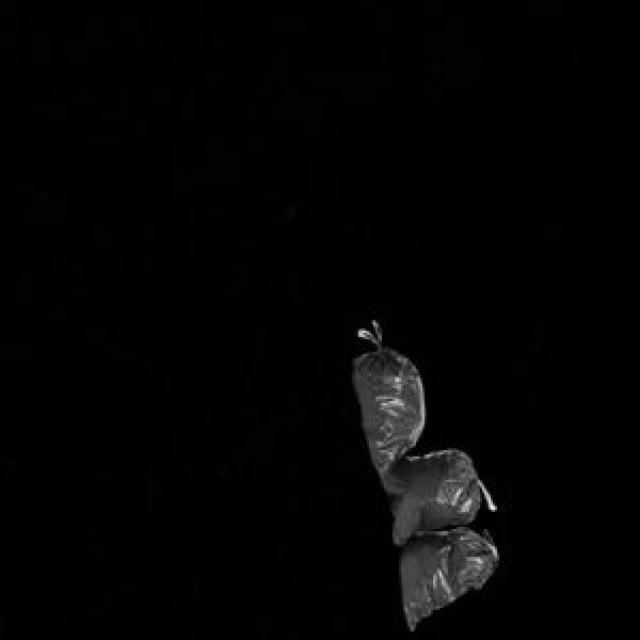miscellaneous trash: (348, 344, 493, 625)
